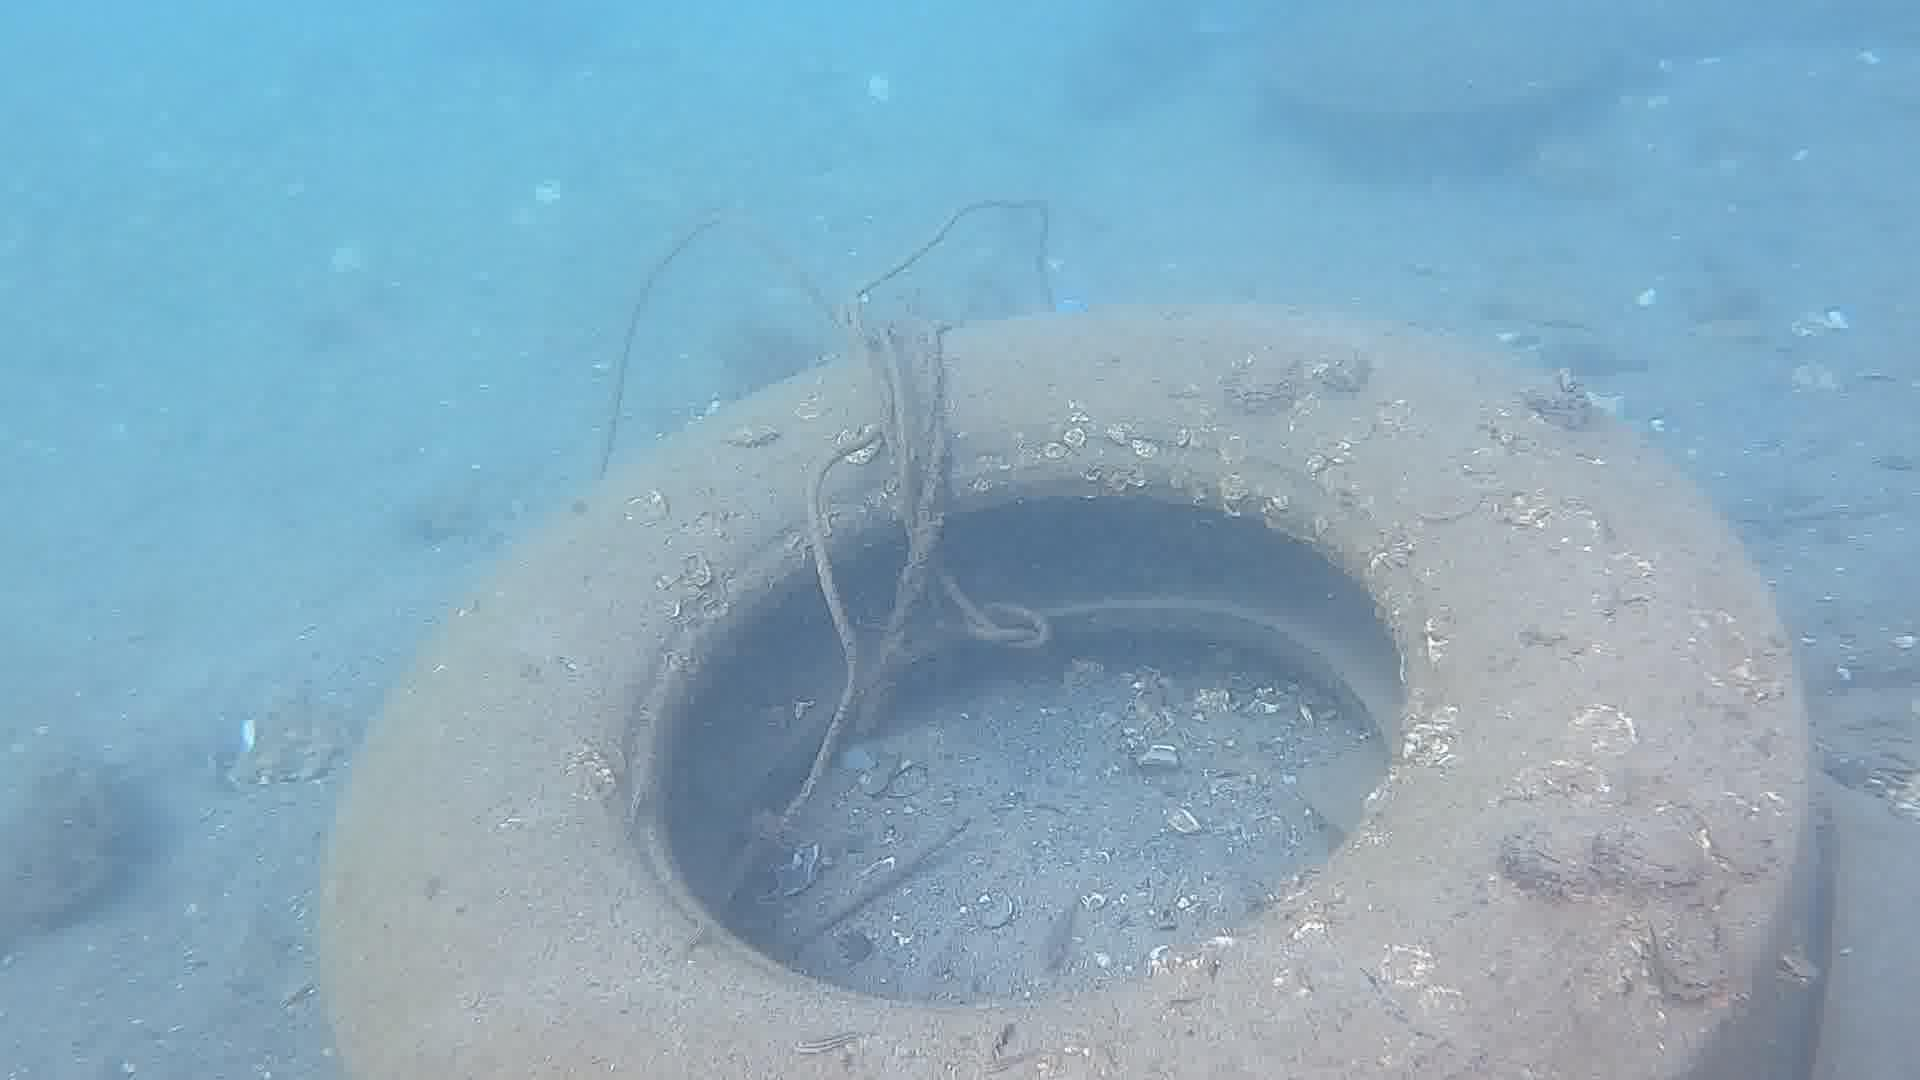bundle of ropes: (591, 196, 1064, 814)
tire: (310, 303, 1828, 1080)
